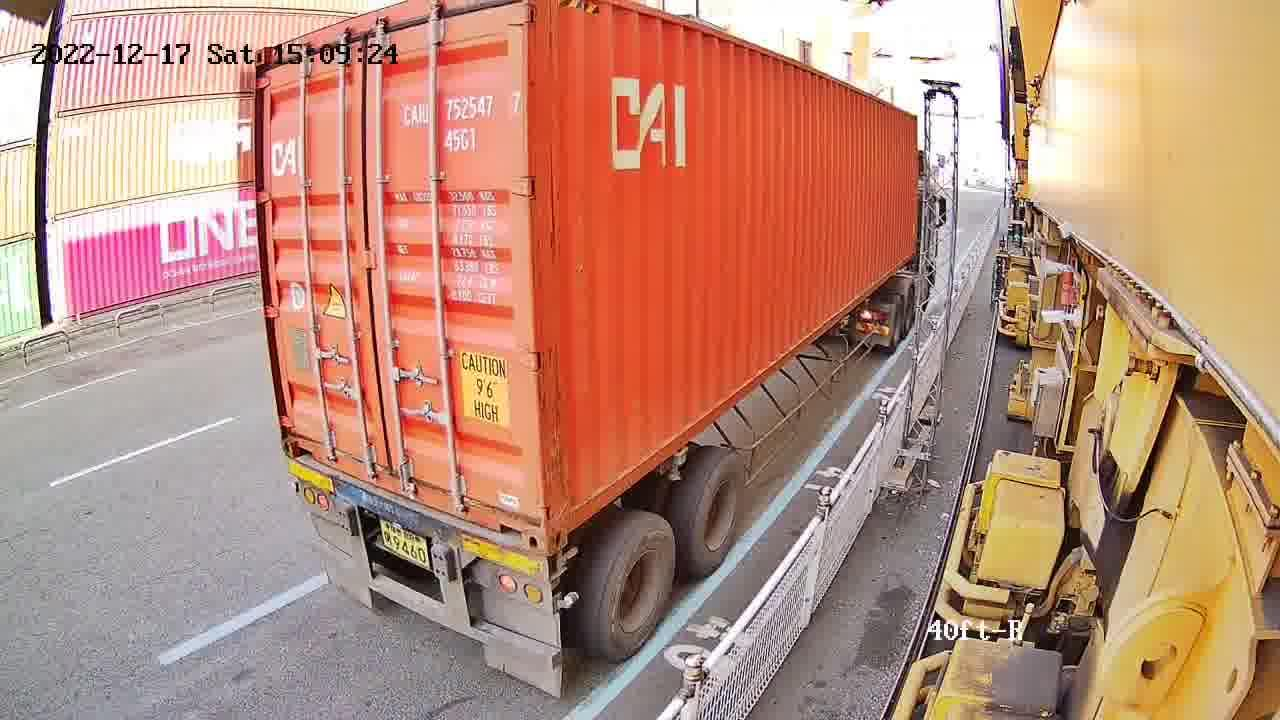Chassis: (287, 463, 550, 585)
Cone: (545, 547, 575, 583)
Hole_L: (540, 455, 595, 557), (276, 407, 328, 471)
Hole_R: (487, 473, 548, 558)
Tire: (600, 526, 675, 657), (687, 455, 748, 574)
